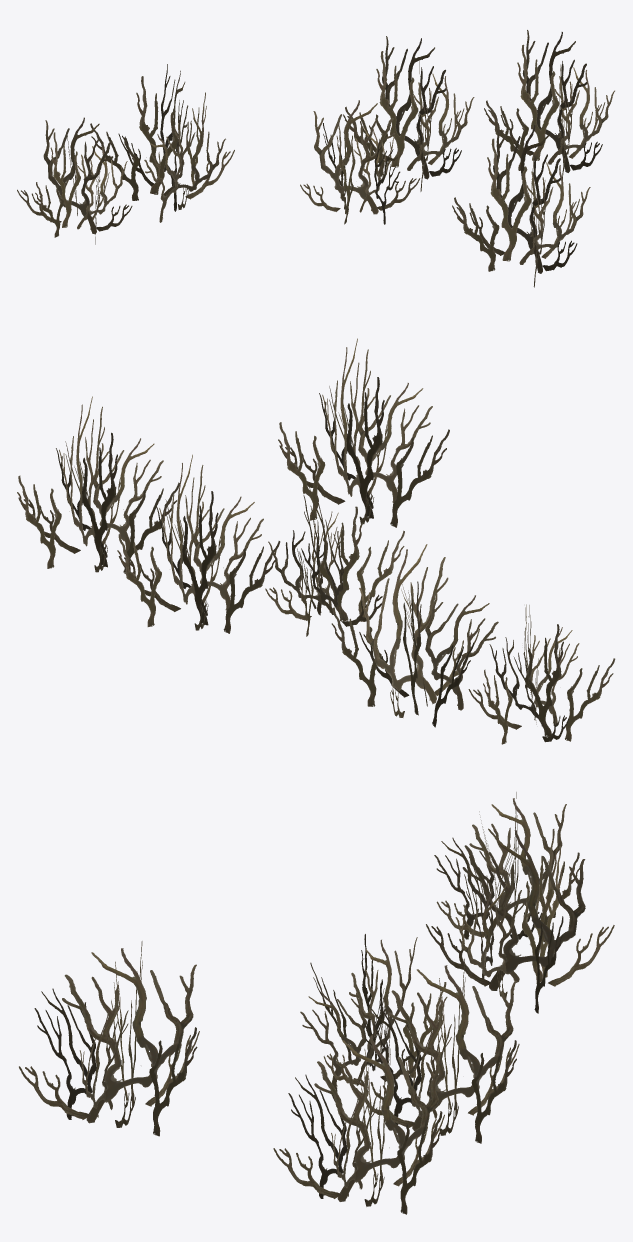
The model's file is Area_13_20.fbx.
3 views of the same model, one above another, from view 1: azimuth 30°, elevation 25°; view 2: azimuth 150°, elevation 25°; view 3: azimuth 270°, elevation 25° (orthographic). The views are drawn at different scales.
Parts seen in each view (by area): view 1: Area_13_20; view 2: Area_13_20; view 3: Area_13_20.
Part boxes in pixels (x1=…): Area_13_20: x1=17, y1=30, x2=614, y2=287; Area_13_20: x1=17, y1=338, x2=615, y2=744; Area_13_20: x1=19, y1=792, x2=614, y2=1214.
Bounding box in the file's own units: 1140 × 295 × 856.
Materials: 1 (1 with a texture image).
